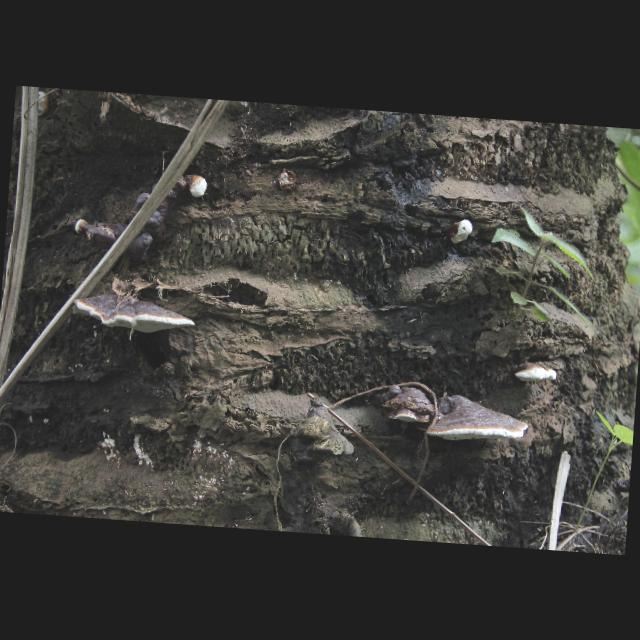ganoderma: (85, 169, 187, 259), (70, 288, 198, 338), (426, 393, 530, 447), (380, 384, 439, 425), (514, 363, 558, 386)
primordium: (450, 220, 474, 246), (188, 176, 209, 199), (75, 219, 89, 236)
